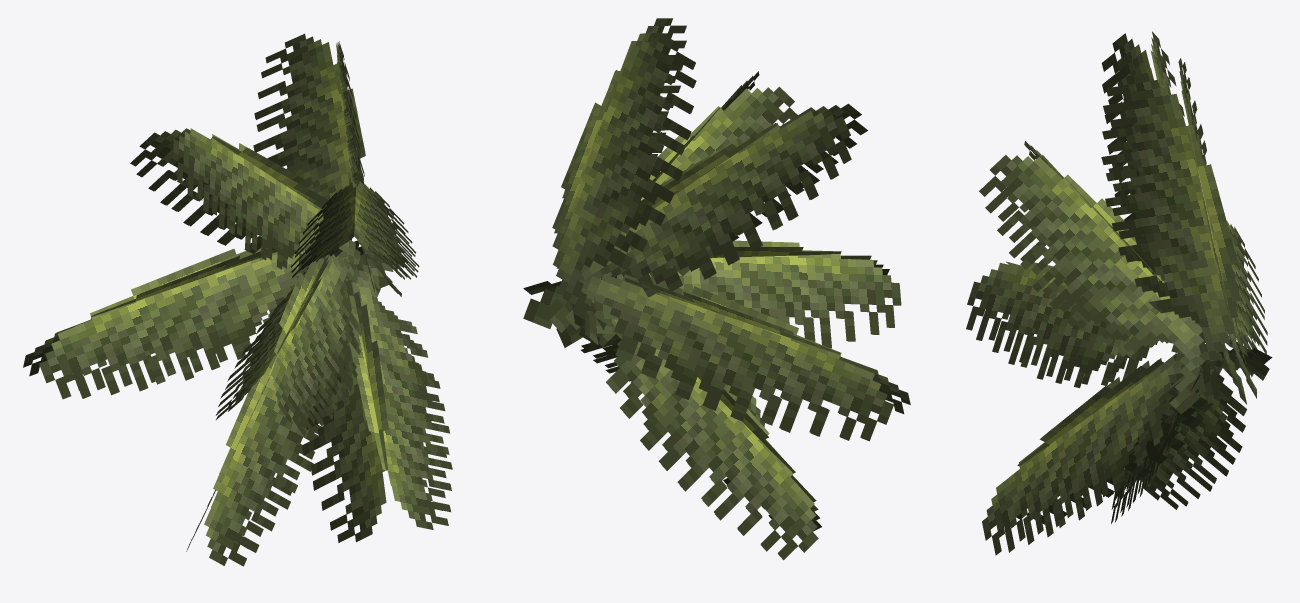
File: palm_leaves_large_2.obj
The picture shows the model from 3 angles, left to right: view 1: azimuth 30°, elevation 25°; view 2: azimuth 150°, elevation 25°; view 3: azimuth 270°, elevation 25°; orthographic projection. The views are drawn at different scales.
Visible parts, largest first — view 1: Frond.042_Cube.005, Frond.040_Cube.005, Frond.038_Cube.005, Frond.041_Cube.005, Frond.045_Cube.006, Frond.043_Cube.005, Frond.039_Cube.005; view 2: Frond.040_Cube.005, Frond.045_Cube.006, Frond.038_Cube.005, Frond.043_Cube.005, Frond.041_Cube.005, Frond.039_Cube.005, Frond.042_Cube.005; view 3: Frond.045_Cube.006, Frond.039_Cube.005, Frond.042_Cube.005, Frond.041_Cube.005, Frond.043_Cube.005, Frond.038_Cube.005, Frond.040_Cube.005.
Part boxes in pixels (box(x1,y1,x2,y2)): Frond.042_Cube.005: box(302, 254, 452, 542); Frond.040_Cube.005: box(23, 239, 388, 399); Frond.038_Cube.005: box(130, 128, 364, 275); Frond.041_Cube.005: box(216, 254, 380, 436); Frond.045_Cube.006: box(253, 33, 375, 294); Frond.043_Cube.005: box(186, 270, 384, 566); Frond.039_Cube.005: box(290, 181, 419, 296); Frond.040_Cube.005: box(523, 273, 910, 441); Frond.045_Cube.006: box(552, 18, 696, 345); Frond.038_Cube.005: box(556, 103, 867, 347); Frond.043_Cube.005: box(543, 298, 821, 560); Frond.041_Cube.005: box(586, 240, 901, 348); Frond.039_Cube.005: box(580, 71, 797, 346); Frond.042_Cube.005: box(523, 281, 764, 427); Frond.045_Cube.006: box(1101, 58, 1253, 391); Frond.039_Cube.005: box(979, 141, 1232, 414); Frond.042_Cube.005: box(982, 348, 1272, 555); Frond.041_Cube.005: box(966, 261, 1261, 394); Frond.043_Cube.005: box(1111, 350, 1269, 523); Frond.038_Cube.005: box(1101, 31, 1246, 404); Frond.040_Cube.005: box(1175, 221, 1267, 398).
Size of the model in its own units: 4.1 by 5.25 by 2.94.
